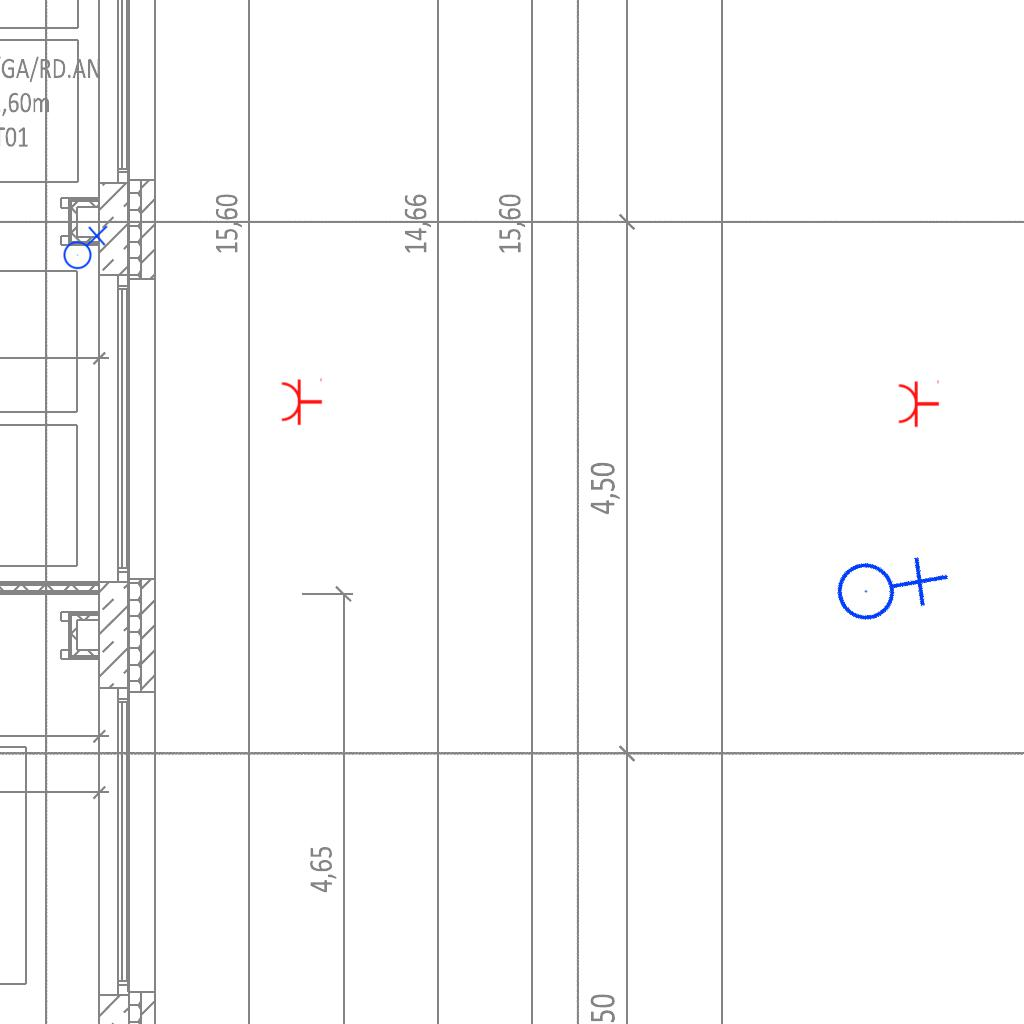Elektroanschluss_allgemein_230V_Geraeteanschlussdose_230V: (818, 517, 953, 651), (59, 223, 108, 270)
Schukosteckdose_einfach: (897, 378, 940, 428), (280, 376, 323, 426)
